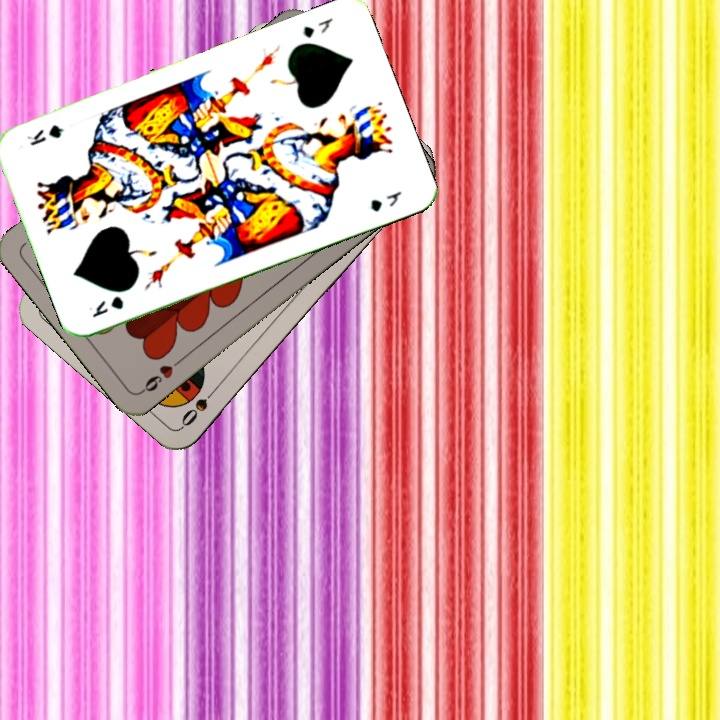GK: (88, 291, 126, 320), (299, 13, 336, 41)
H9: (137, 353, 186, 396)
SO: (177, 381, 222, 430)
